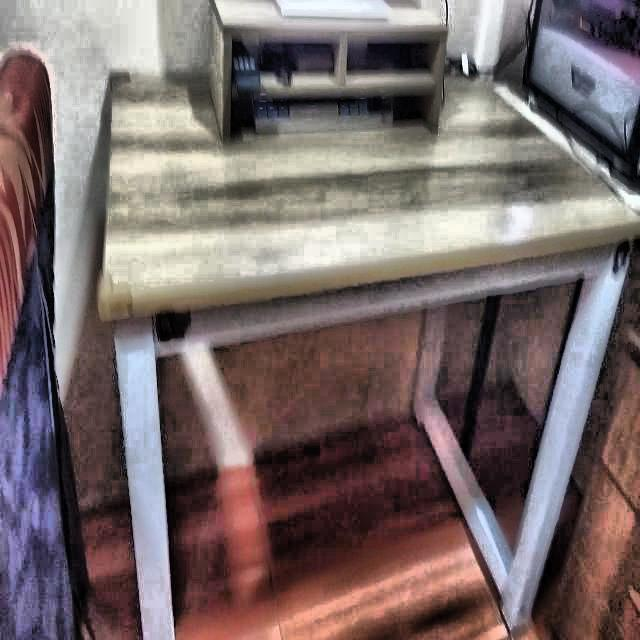mesa: (92, 53, 640, 640)
